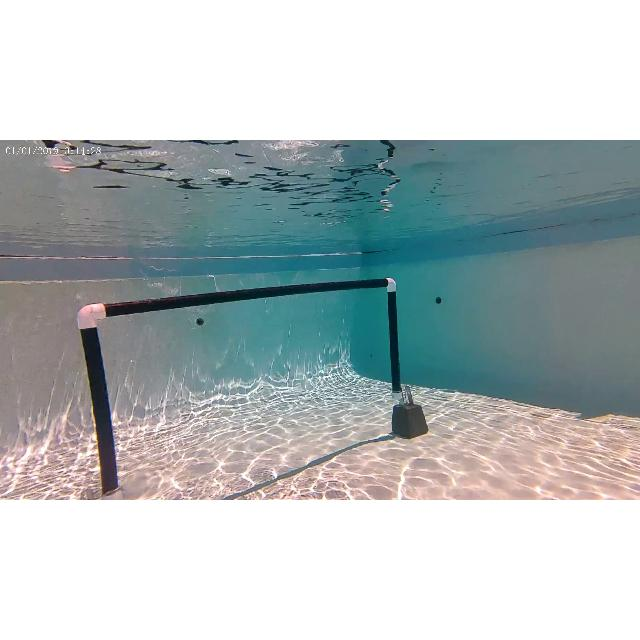prequal gate: (76, 278, 408, 496)
prequal gate leg l: (72, 304, 134, 501)
prequal gate leg r: (378, 277, 429, 439)
